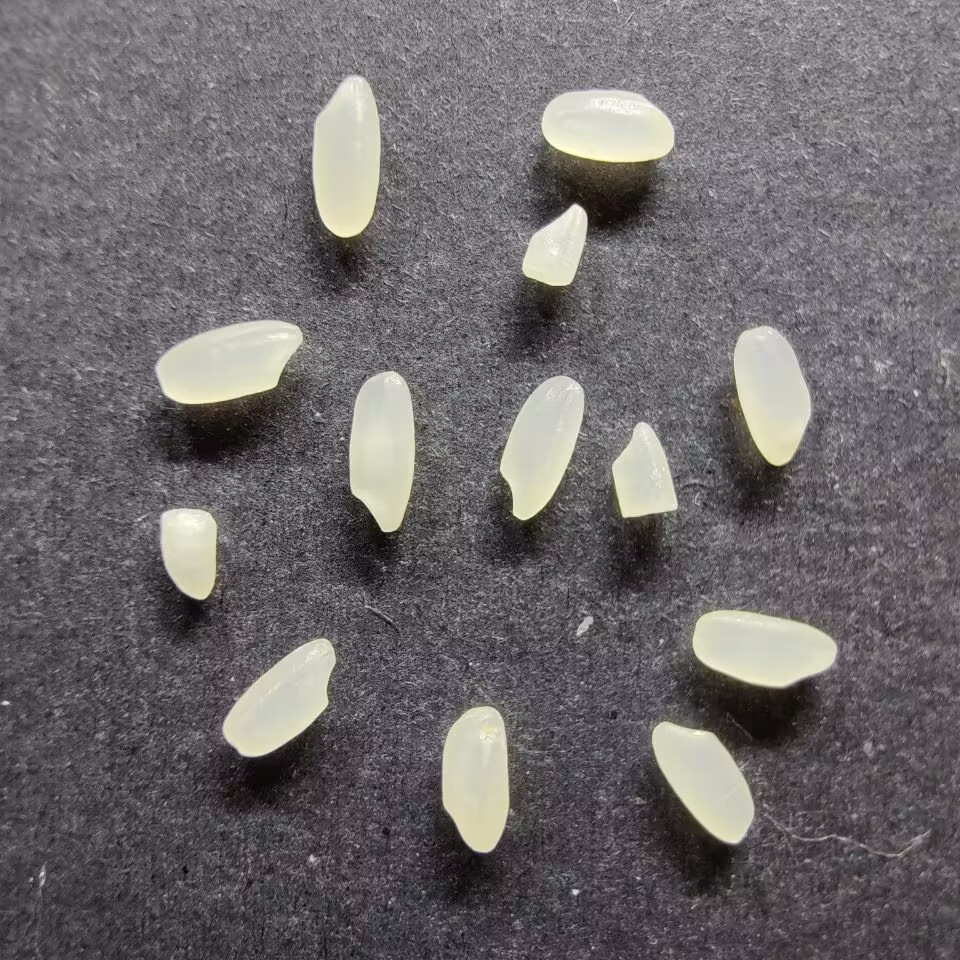broken: (609, 421, 678, 519), (520, 201, 588, 287), (158, 507, 218, 601)
rice: (221, 637, 337, 758), (650, 721, 755, 845), (154, 318, 303, 404), (498, 375, 585, 520), (691, 609, 838, 688), (310, 75, 380, 238), (347, 370, 416, 534), (731, 325, 811, 466), (439, 705, 510, 854), (540, 88, 676, 163)
